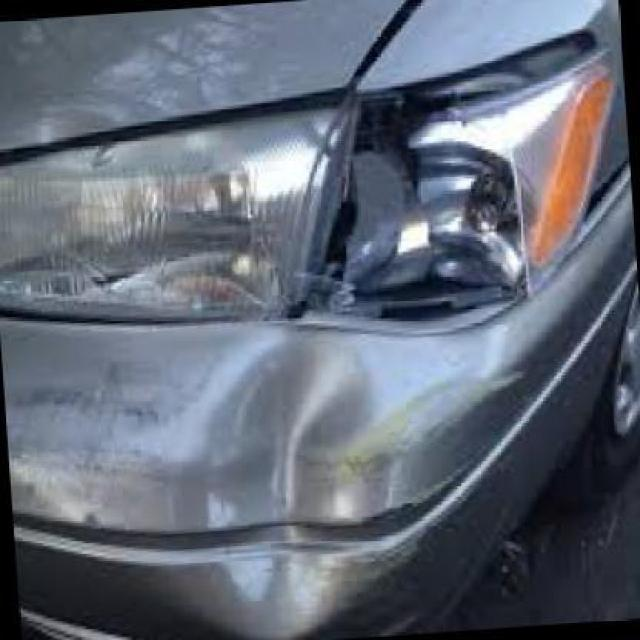dent: (211, 351, 393, 526), (169, 549, 346, 637)
